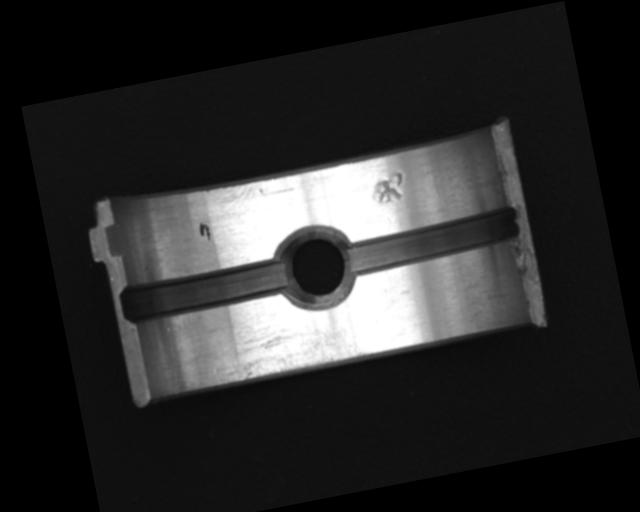blot: (197, 221, 211, 243)
bruise: (368, 169, 407, 206)
gap: (342, 201, 524, 278), (117, 254, 292, 326)
hole: (271, 218, 362, 316)
scratch: (203, 307, 373, 386)
